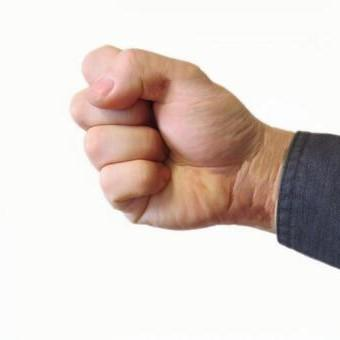gu-: (69, 44, 241, 232)
